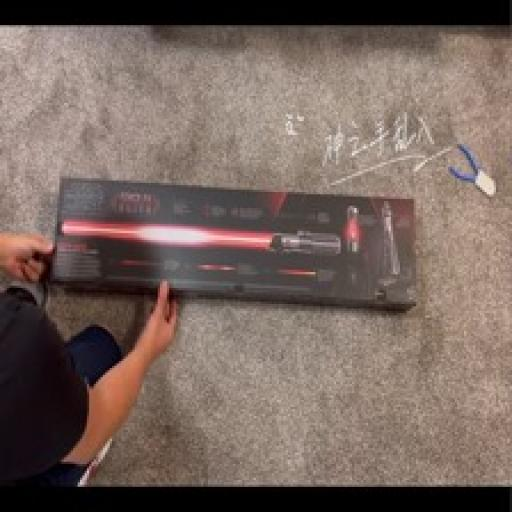sith saber: (61, 222, 340, 257)
